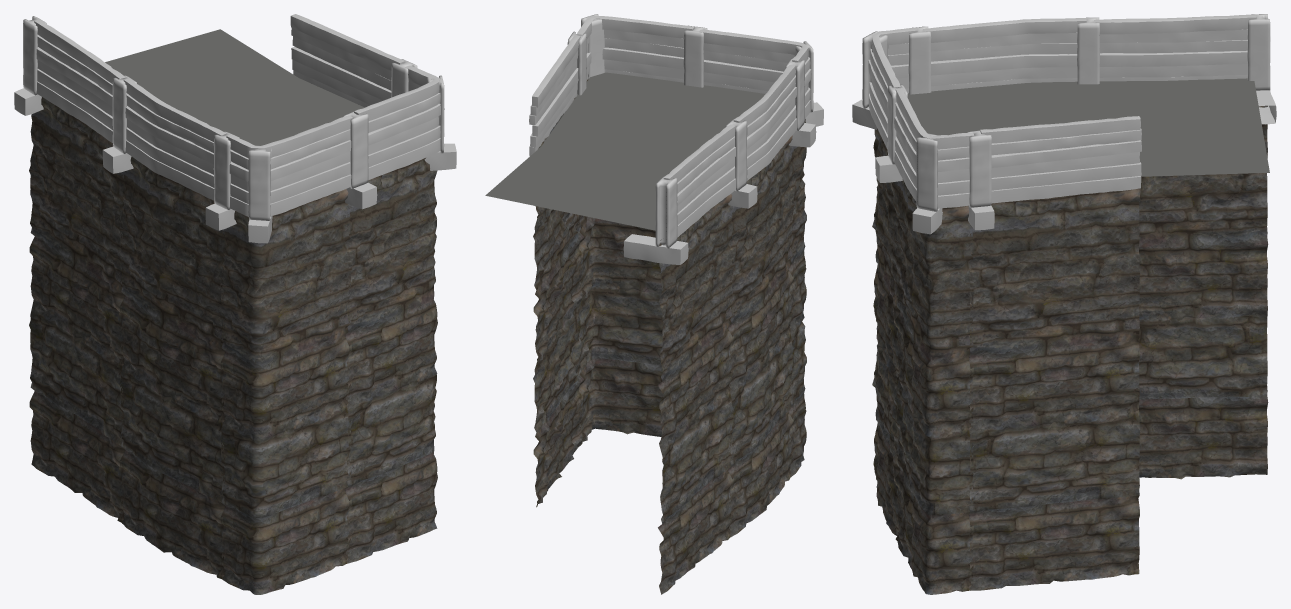
File: Steinmauer_Vorstand_joint.fbx
3 renders of one model, left to right at view 1: azimuth 30°, elevation 25°; view 2: azimuth 150°, elevation 25°; view 3: azimuth 270°, elevation 25°, orthographic. The views are drawn at different scales.
Visible parts, largest first — view 1: Steinmauer_v3_joint_LOD0; view 2: Steinmauer_v3_joint_LOD0; view 3: Steinmauer_v3_joint_LOD0.
Part boxes in pixels (x1,y1,x2,y2): Steinmauer_v3_joint_LOD0: (14,14,456,594); Steinmauer_v3_joint_LOD0: (485,14,823,594); Steinmauer_v3_joint_LOD0: (852,14,1276,594).
Size of what is drawn, in the model's own units: 245 by 377 by 316.
